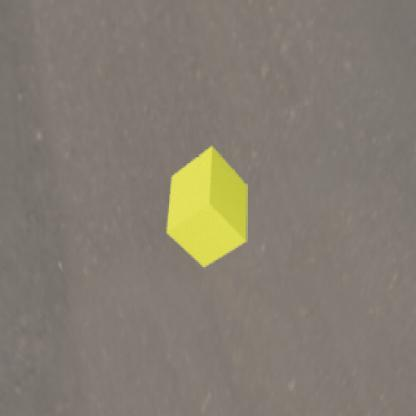cube: (165, 146, 247, 268)
